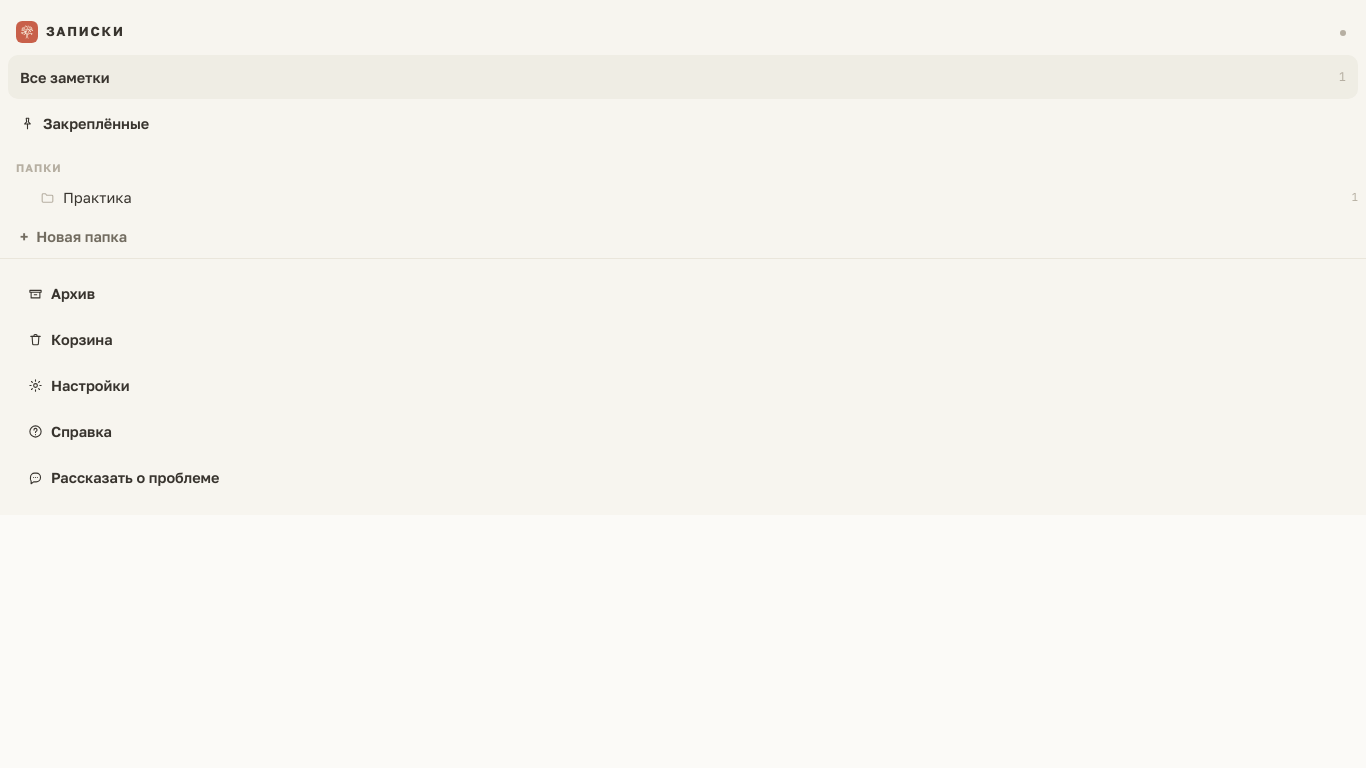
меню папки открывается жестом из ТЗ › в меню все четыре пункта BEHAVIOR §3, ни одного лишнего
Right-click the list item at (97, 197), box [0, 180, 1365, 214]
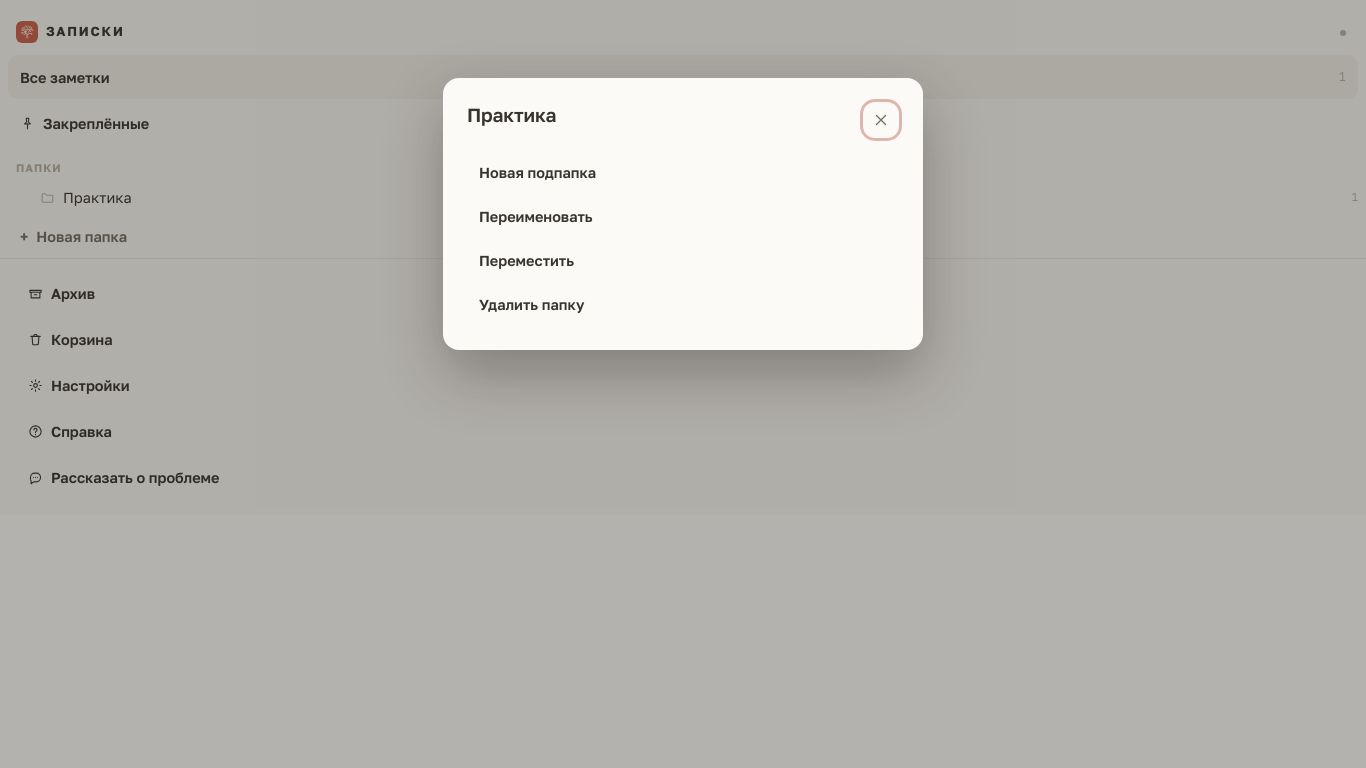
Expected: the menu items read "Новая подпапка", "Переименовать", "Переместить", "Удалить папку", in this order, [467, 150, 899, 194]; [467, 194, 899, 238]; [467, 238, 899, 282]; [467, 282, 899, 326]
